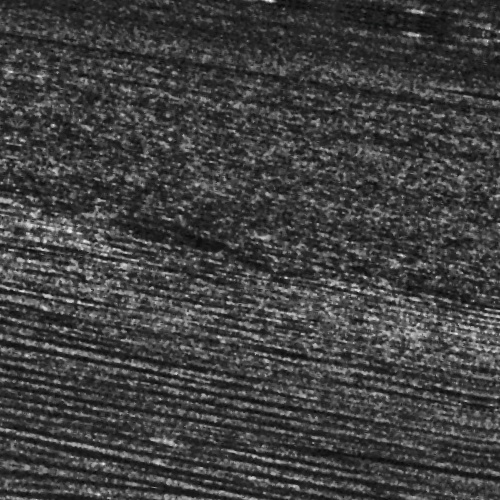object: (125, 0, 292, 6)
shadow: (0, 0, 208, 6), (481, 55, 500, 62)
